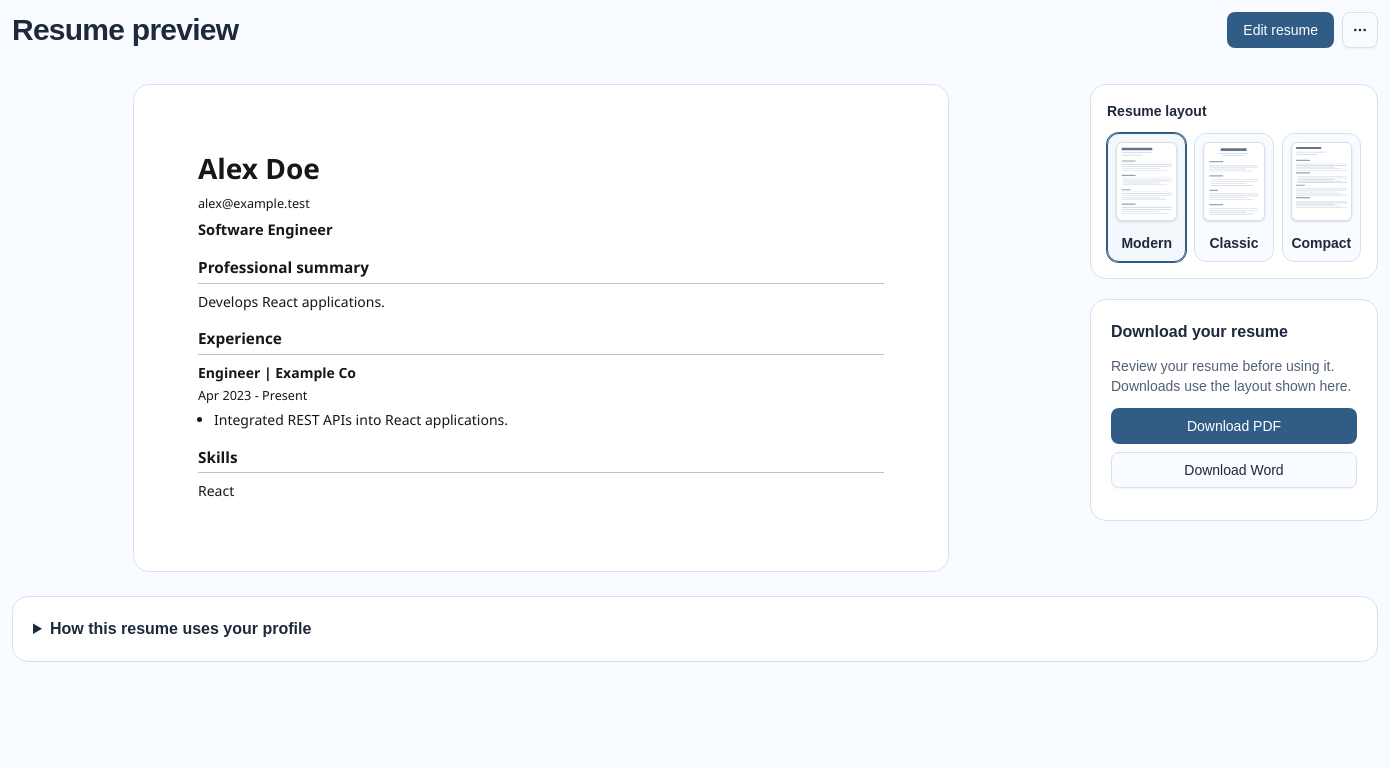
it: leaves editing without saving when nothing changed, preserving the previous fact check
Step 1. Click the button "Edit resume" → (1281, 30), box [1227,12,1334,48]
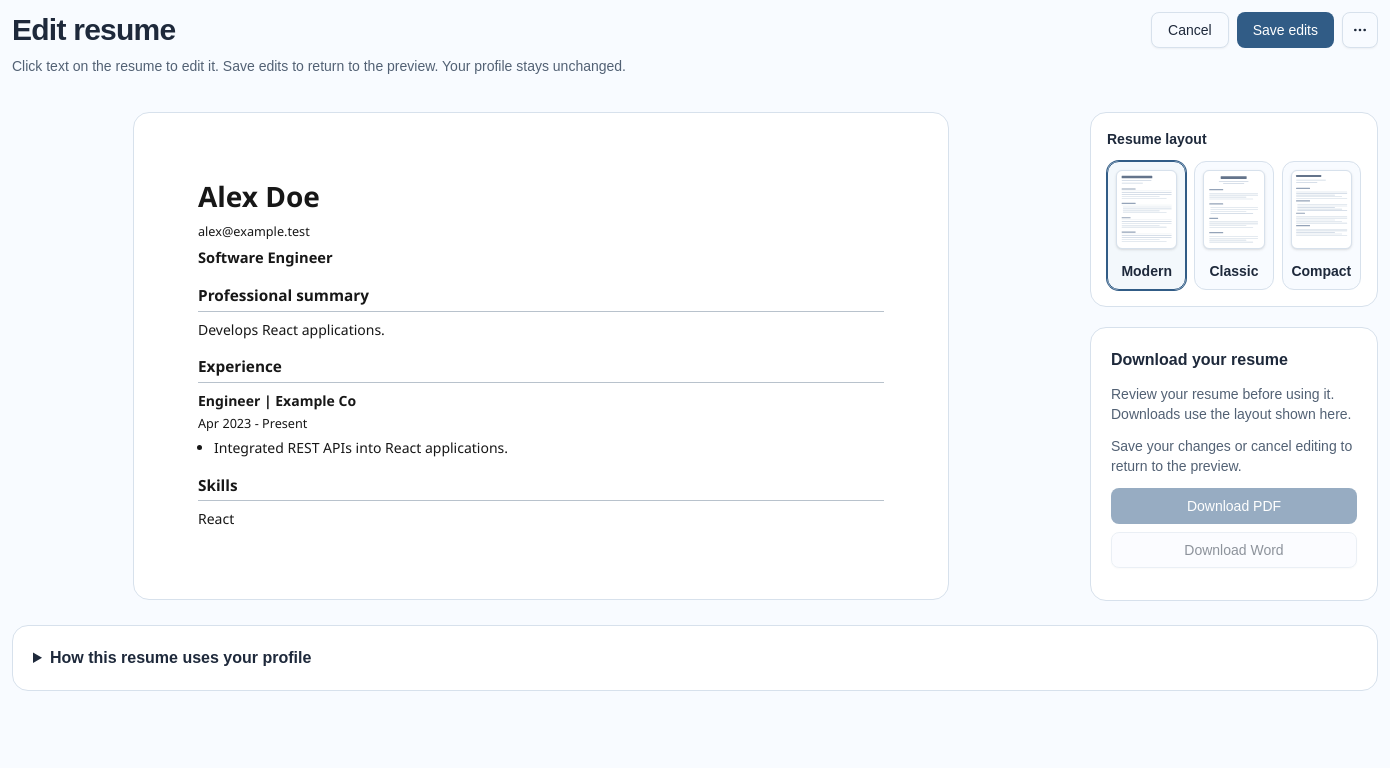
Step 2. Click the button "Save edits" → (1285, 30), box [1237,12,1334,48]
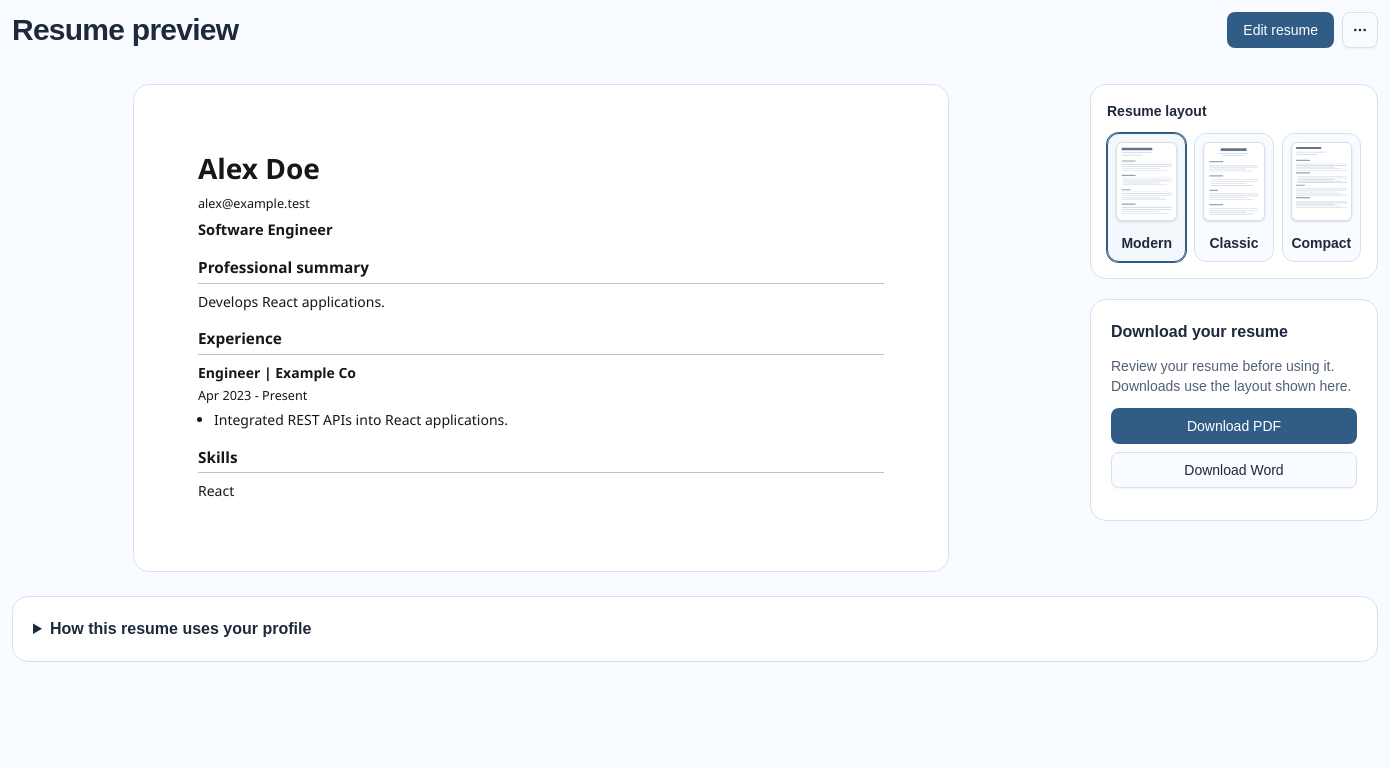
Check: the element named "Saved resume" is shown, box [133,84,949,572]
